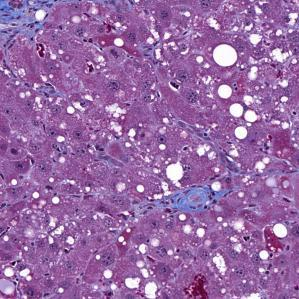fibrosis: (163, 181, 228, 221), (9, 7, 51, 46)
